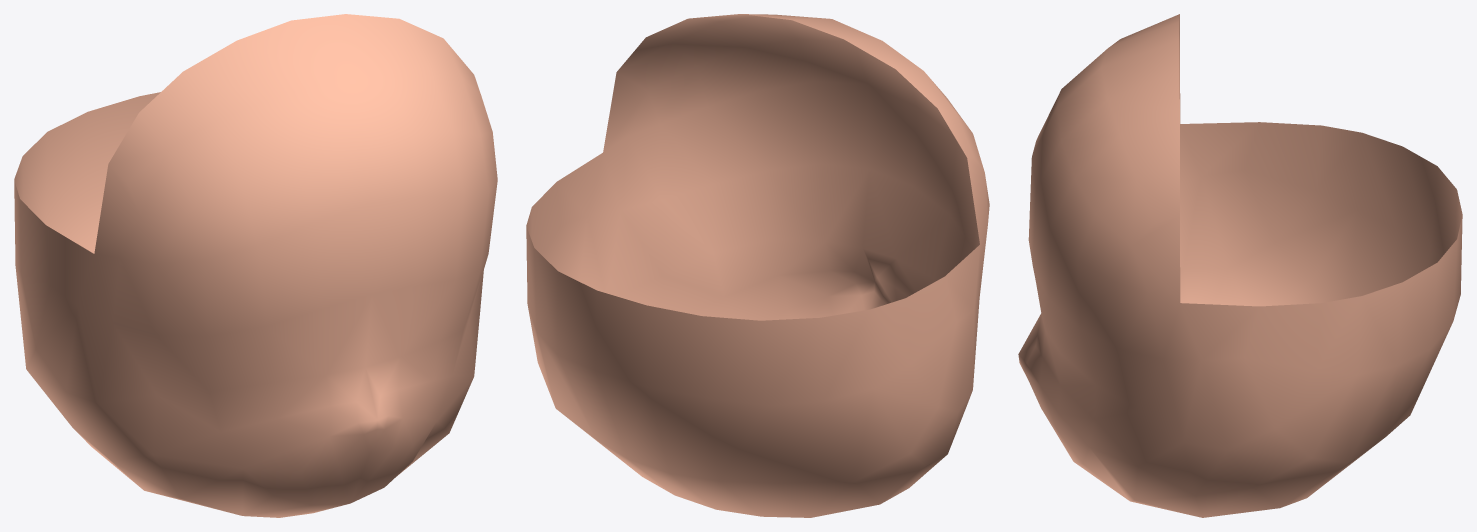
3 views of the same model, side by side, from view 1: azimuth 30°, elevation 25°; view 2: azimuth 150°, elevation 25°; view 3: azimuth 270°, elevation 25° (orthographic). The views are drawn at different scales.
Parts seen in each view (by area): view 1: AF_M_Face_02; view 2: AF_M_Face_02; view 3: AF_M_Face_02.
Part boxes in pixels (box(x1,y1,x2,y2)): AF_M_Face_02: box(14, 14, 497, 517); AF_M_Face_02: box(526, 14, 989, 517); AF_M_Face_02: box(1018, 14, 1462, 517).
Size of the model in its own units: 662 by 731 by 661.
1 material, 1 textured.
